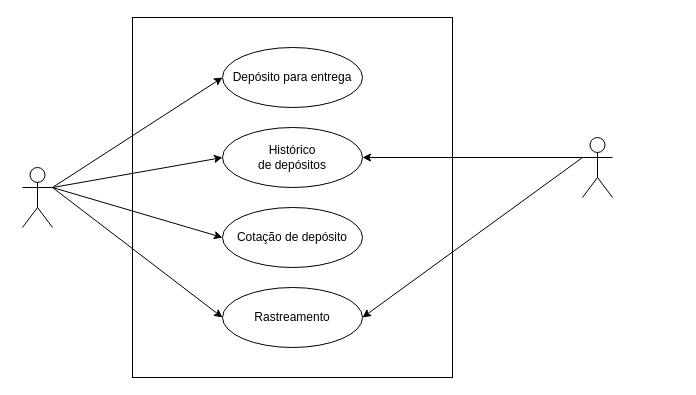
Some shapes in this 696 by 395 pixel diagram are drawn without their labels. The centre of each missing label's shape, as x and y in pixels:
"Módulo de Serviços ao Cliente" belongs at (x=597, y=167).
"Usuário" belongs at (x=37, y=197).
